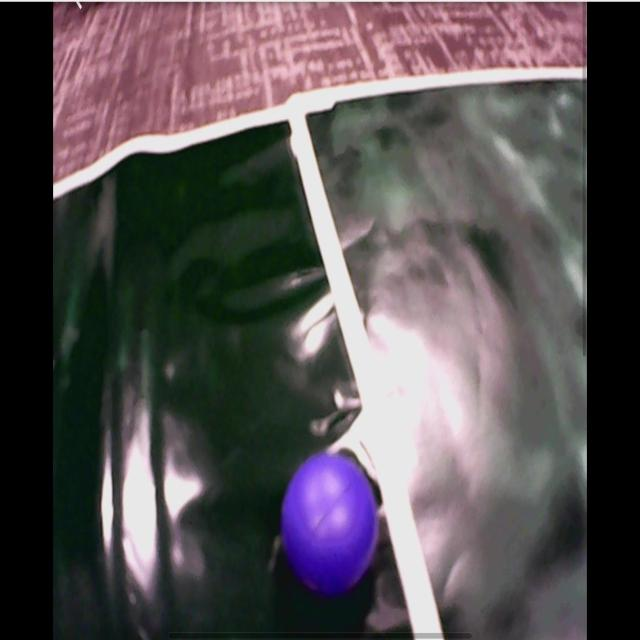ball: (283, 453, 379, 596)
